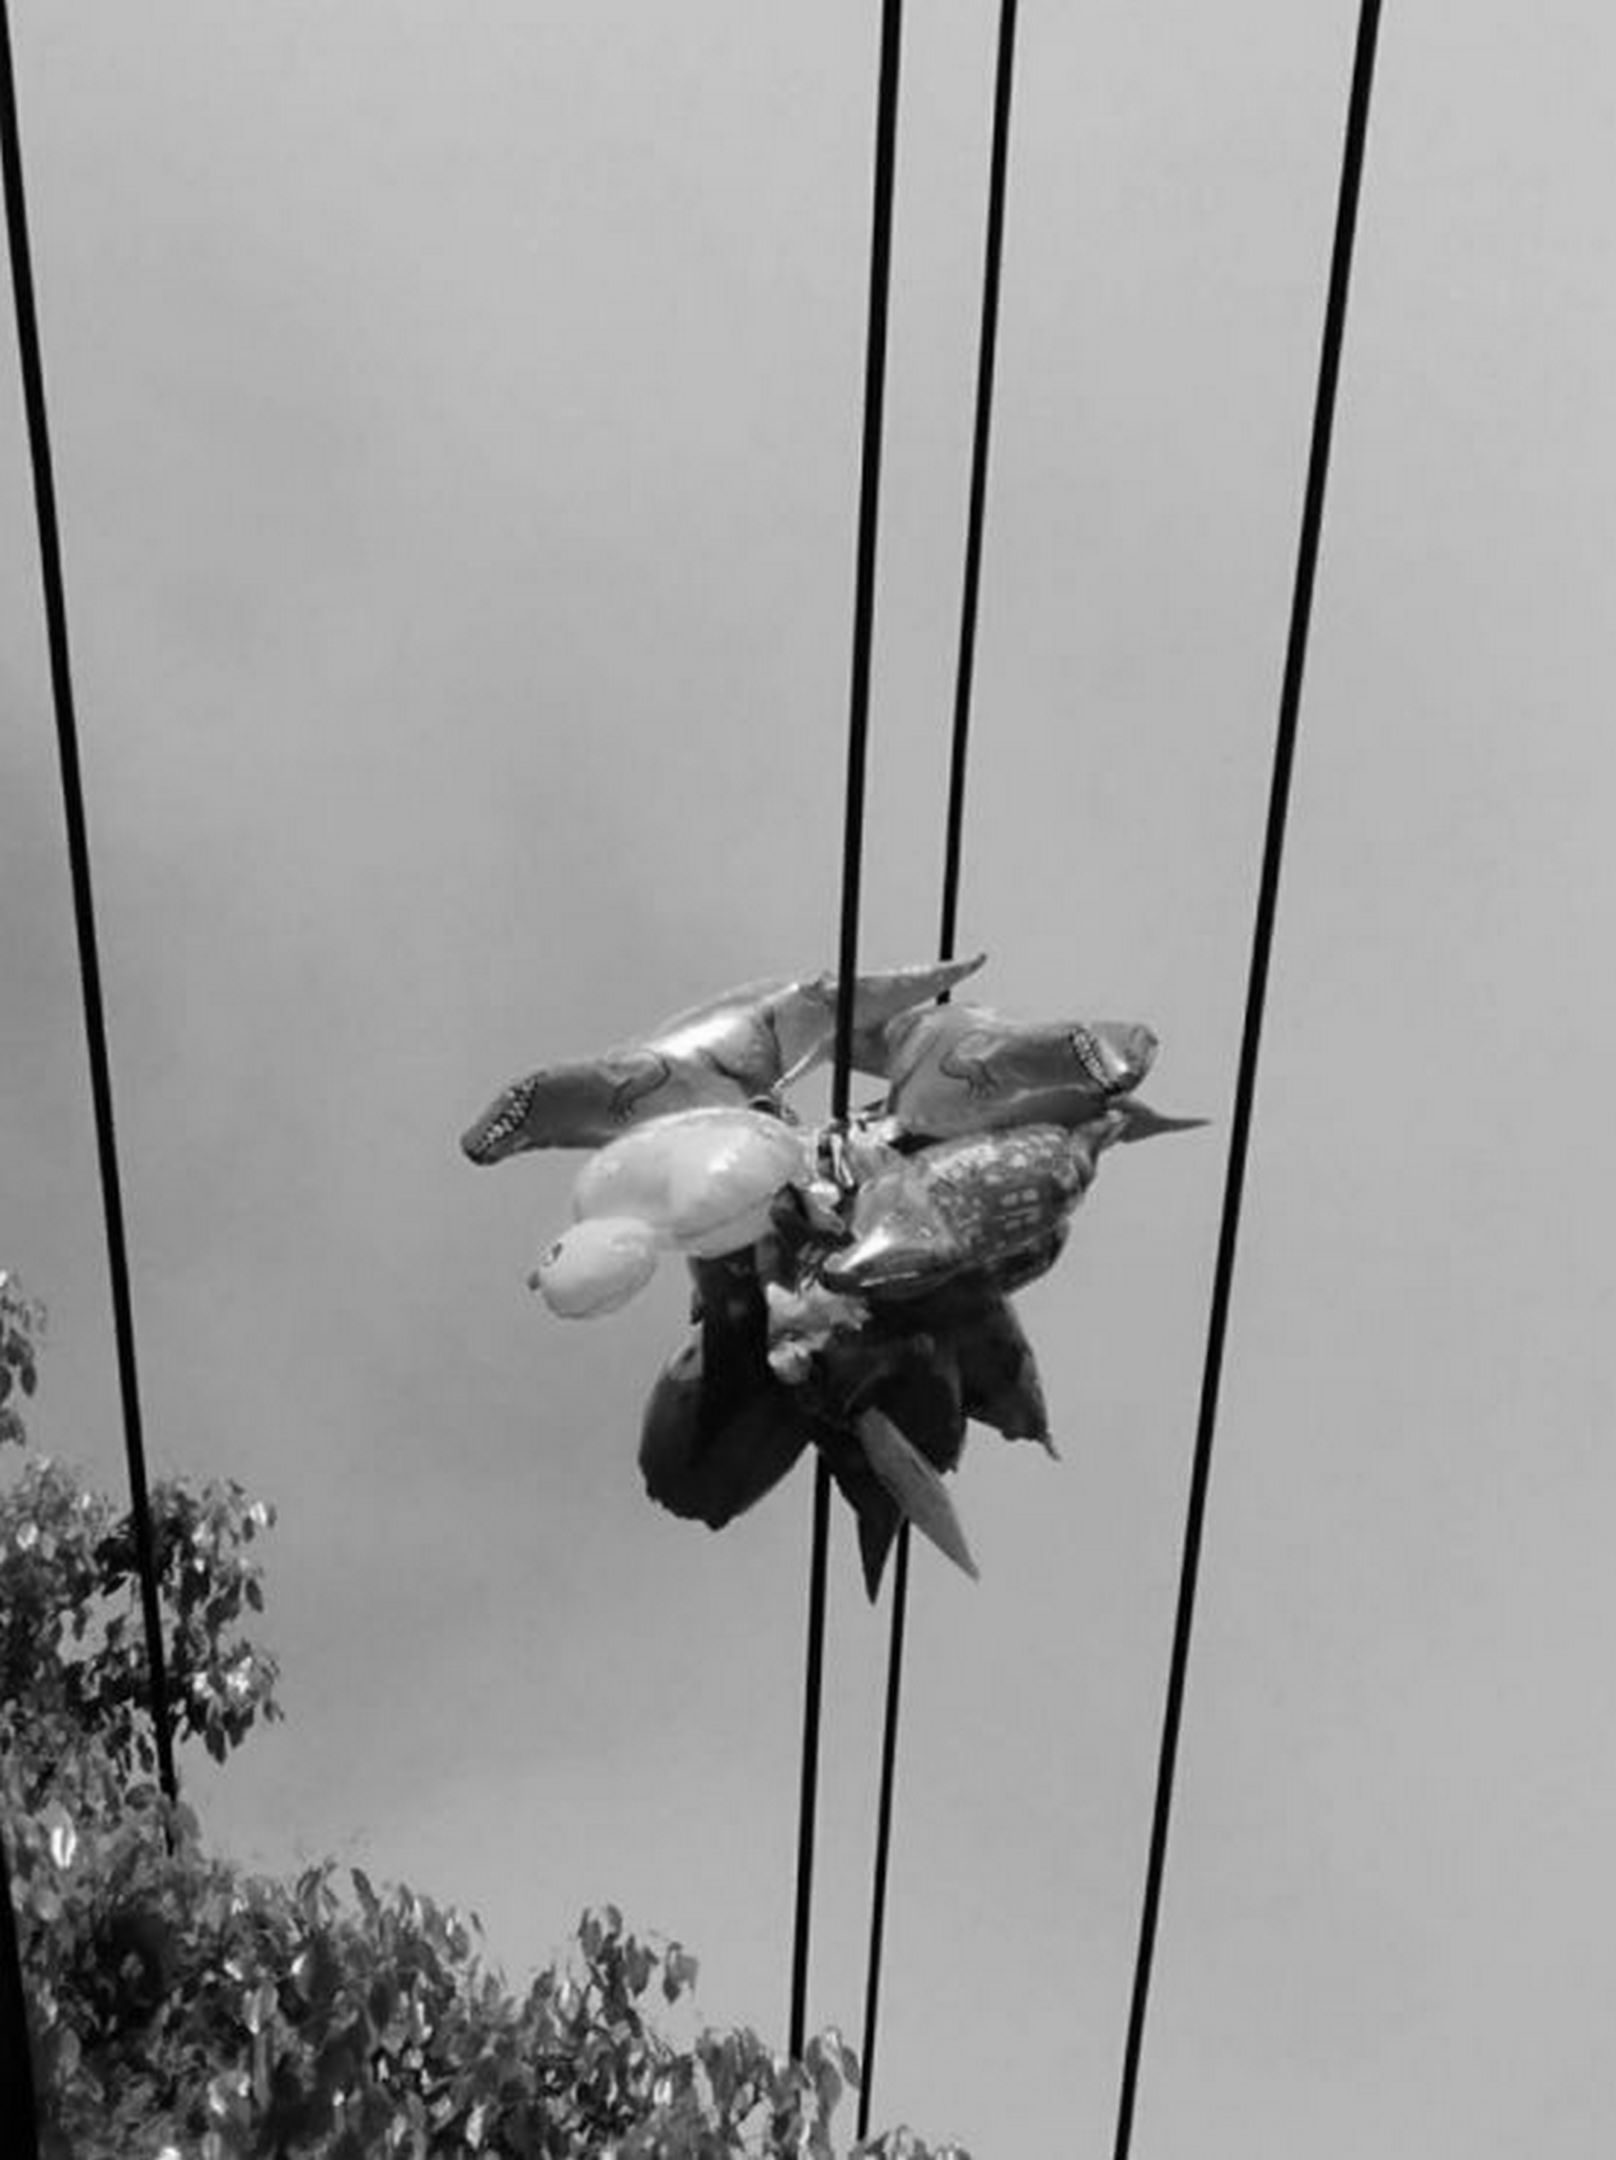wire foreign body: (392, 872, 1188, 1649)
